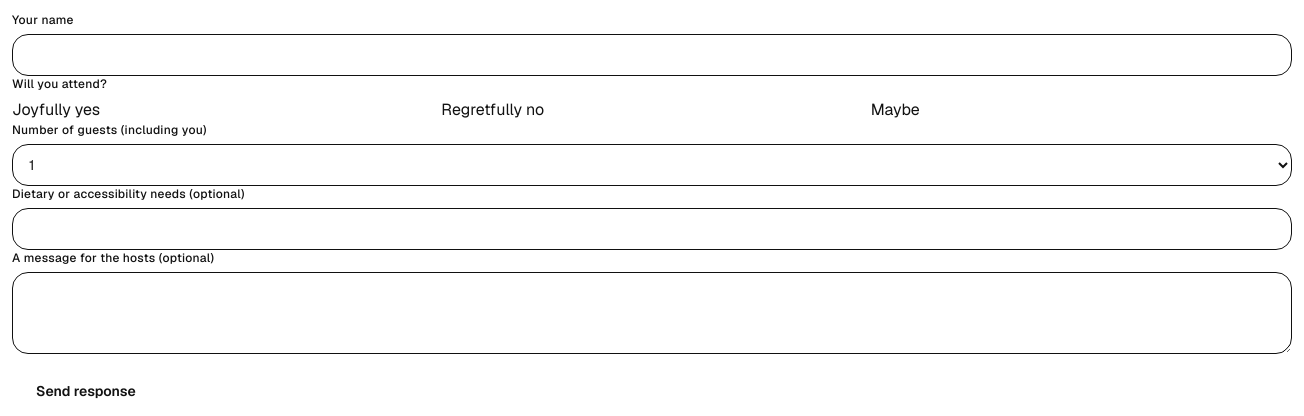
Test: RsvpForm › hides guest count and dietary fields when declining
The width and height of the screenshot is (1304, 416).
Expected: the dropdown labelled "Number of guests (including you)" is shown, [12, 144, 1292, 186]
Click the radio button labelled "Regretfully no" at (493, 110), box [441, 99, 544, 120]
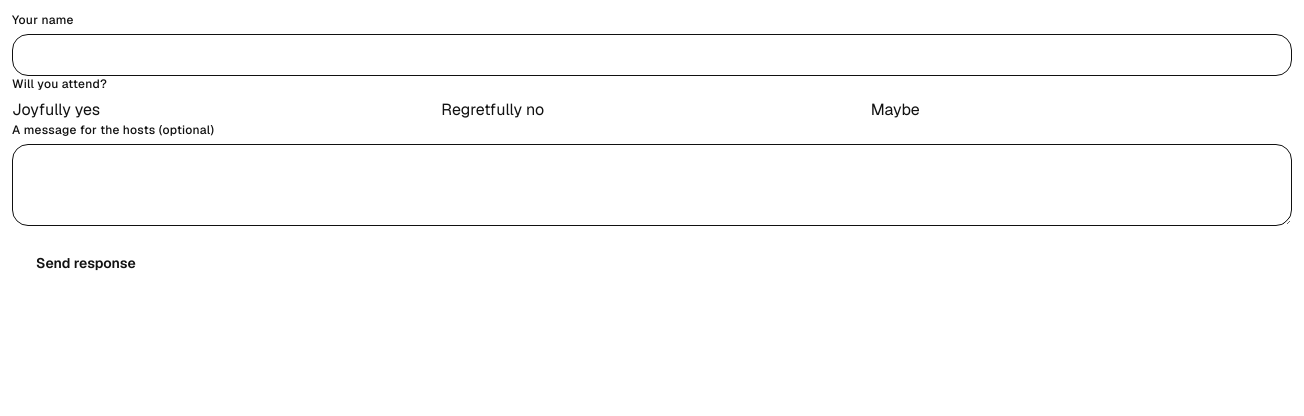
Result: the label labelled "Number of guests" is gone
Result: the label labelled "Dietary" is gone
